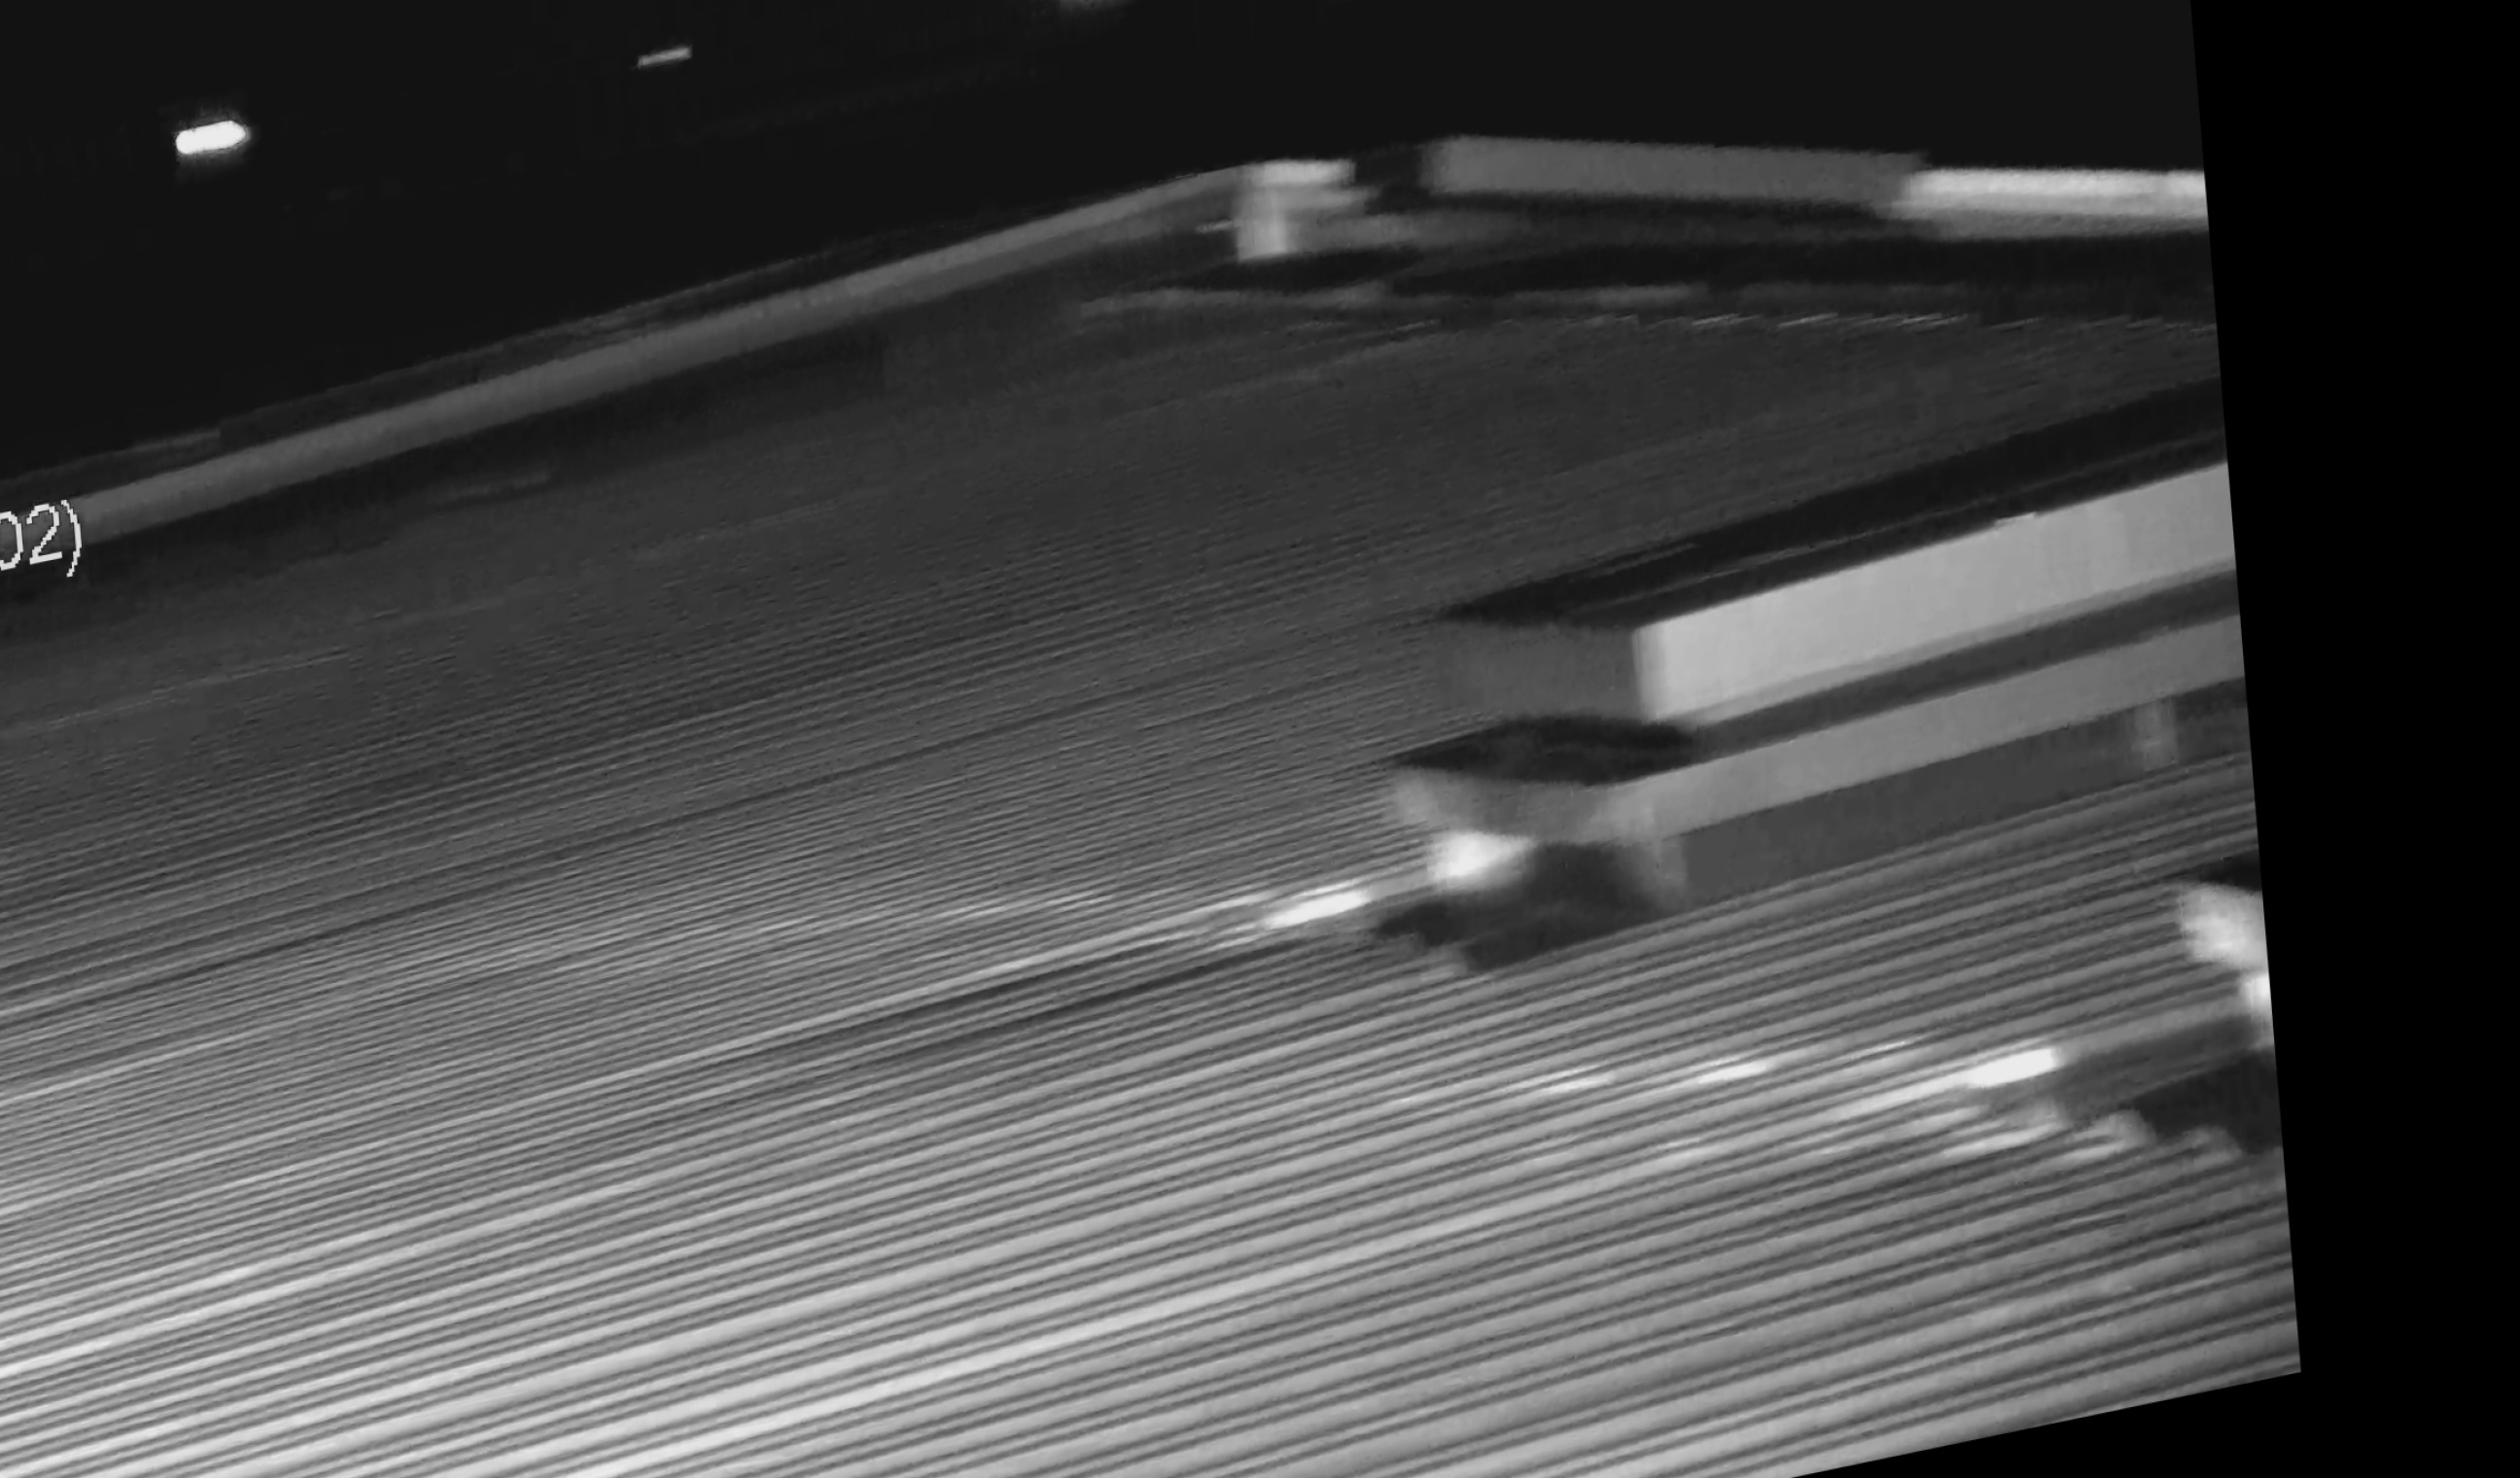Other: (1291, 662, 1739, 992)
